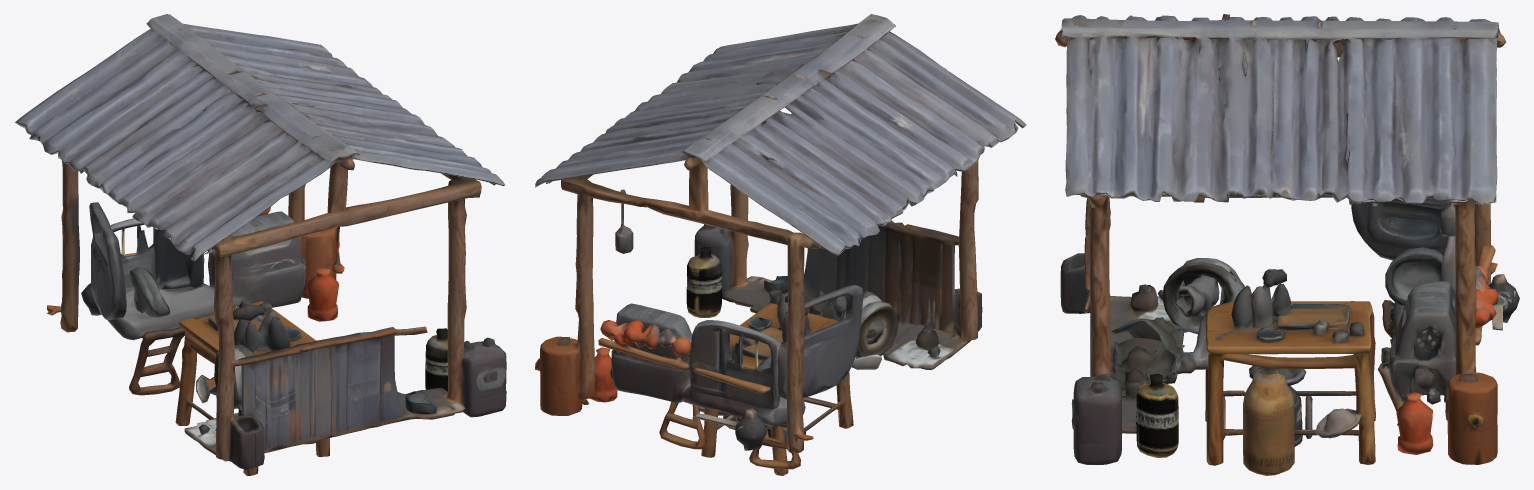
The model's file is mechanic.glb.
The picture shows the model from 3 angles, left to right: view 1: azimuth 30°, elevation 25°; view 2: azimuth 150°, elevation 25°; view 3: azimuth 270°, elevation 25°; orthographic projection. The views are drawn at different scales.
Visible parts, largest first — view 1: tripo_node_f51d0cea-055a-4696-8f5e-4b48f4f6836c; view 2: tripo_node_f51d0cea-055a-4696-8f5e-4b48f4f6836c; view 3: tripo_node_f51d0cea-055a-4696-8f5e-4b48f4f6836c.
Part boxes in pixels (x1,y1,x2,y2): tripo_node_f51d0cea-055a-4696-8f5e-4b48f4f6836c: [14, 14, 506, 475]; tripo_node_f51d0cea-055a-4696-8f5e-4b48f4f6836c: [535, 14, 1026, 475]; tripo_node_f51d0cea-055a-4696-8f5e-4b48f4f6836c: [1055, 14, 1519, 475].
Size of the model in its own units: 7.33 by 7.97 by 8.
1 material, 1 textured.
